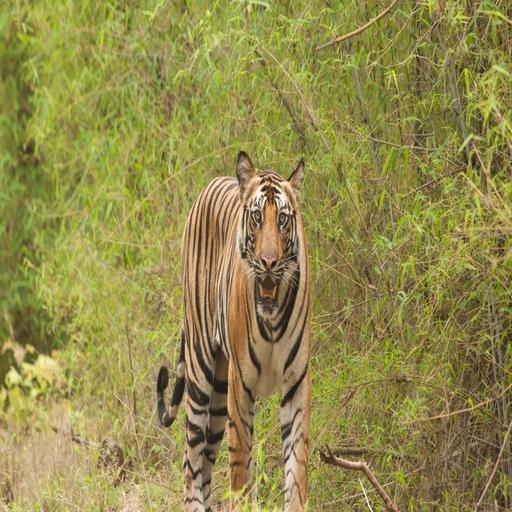Tiger: (153, 145, 321, 512)
